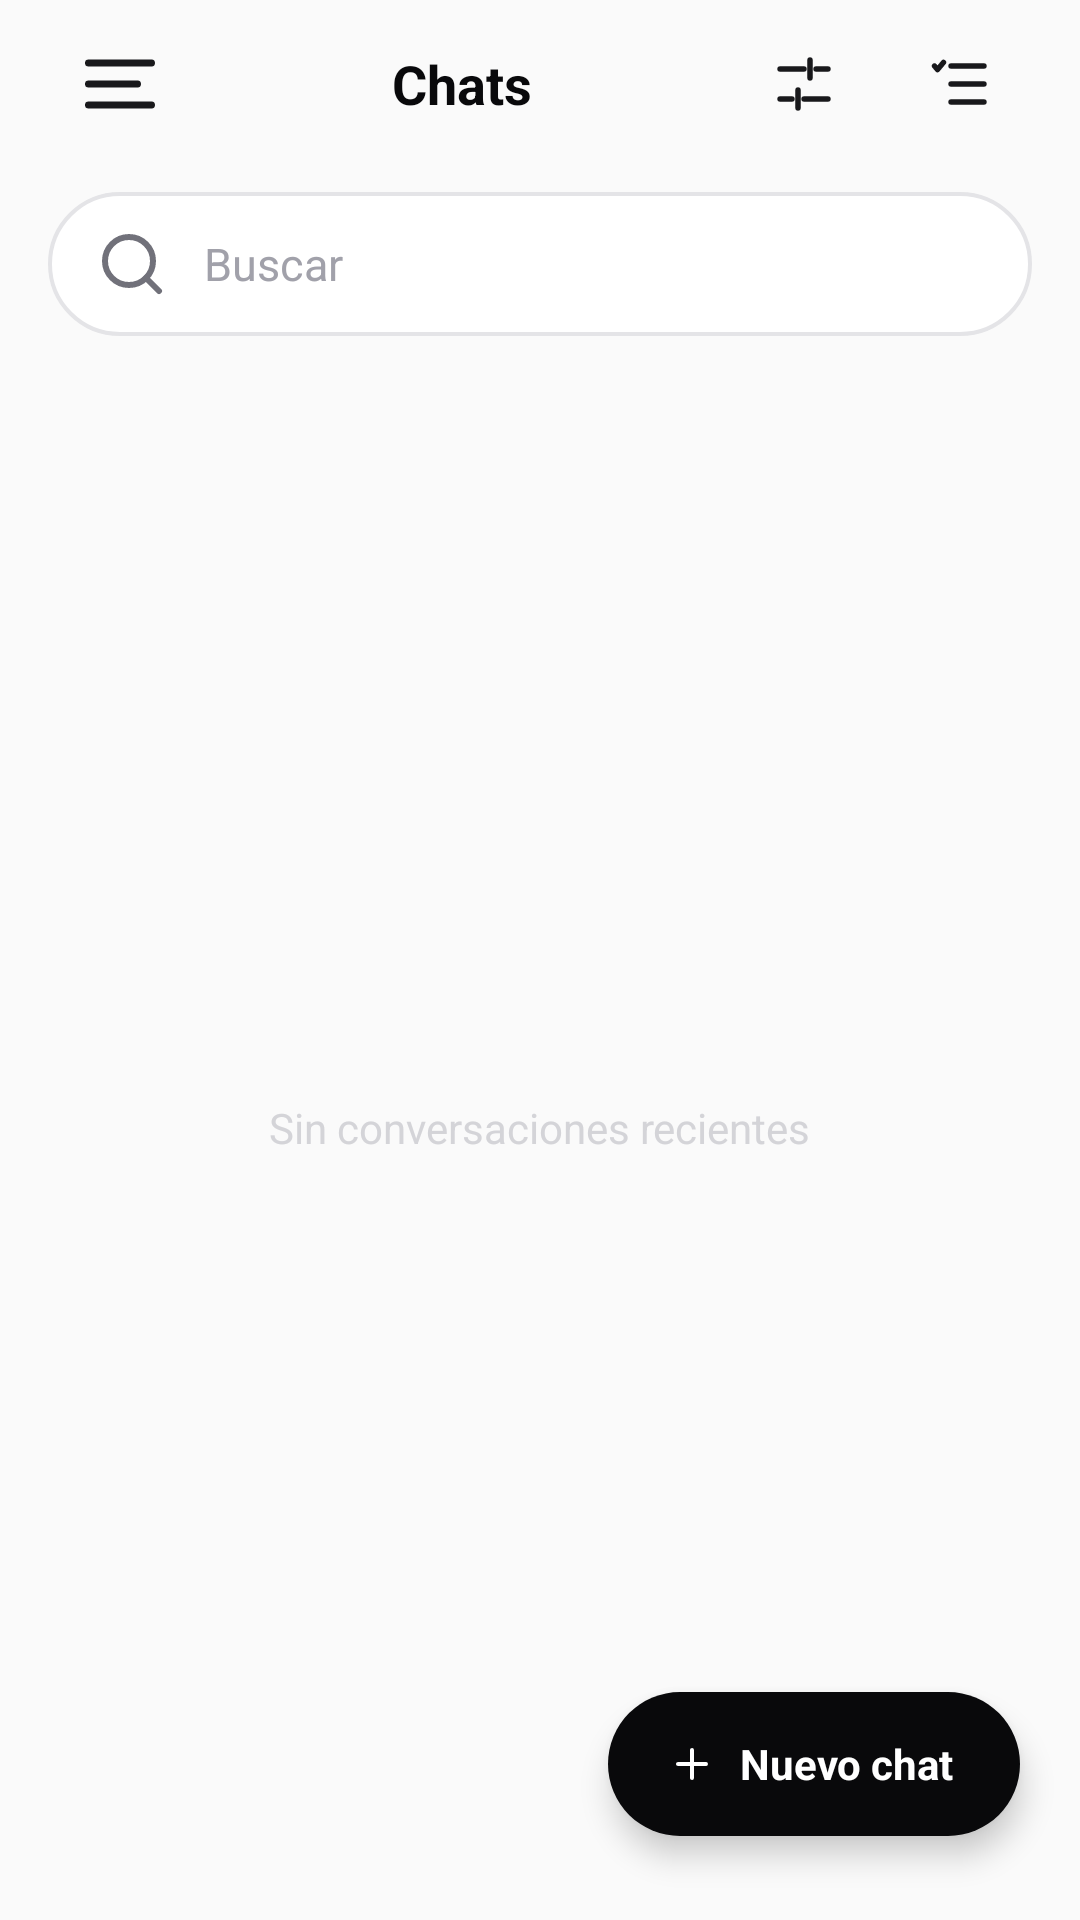

Where to tap for icons on this 1080 x 1920 app screen, as (x,y):
Anadir: (692,1764)
Filtros: (804,84)
Menu: (120,84)
Seleccionar: (959,82)
